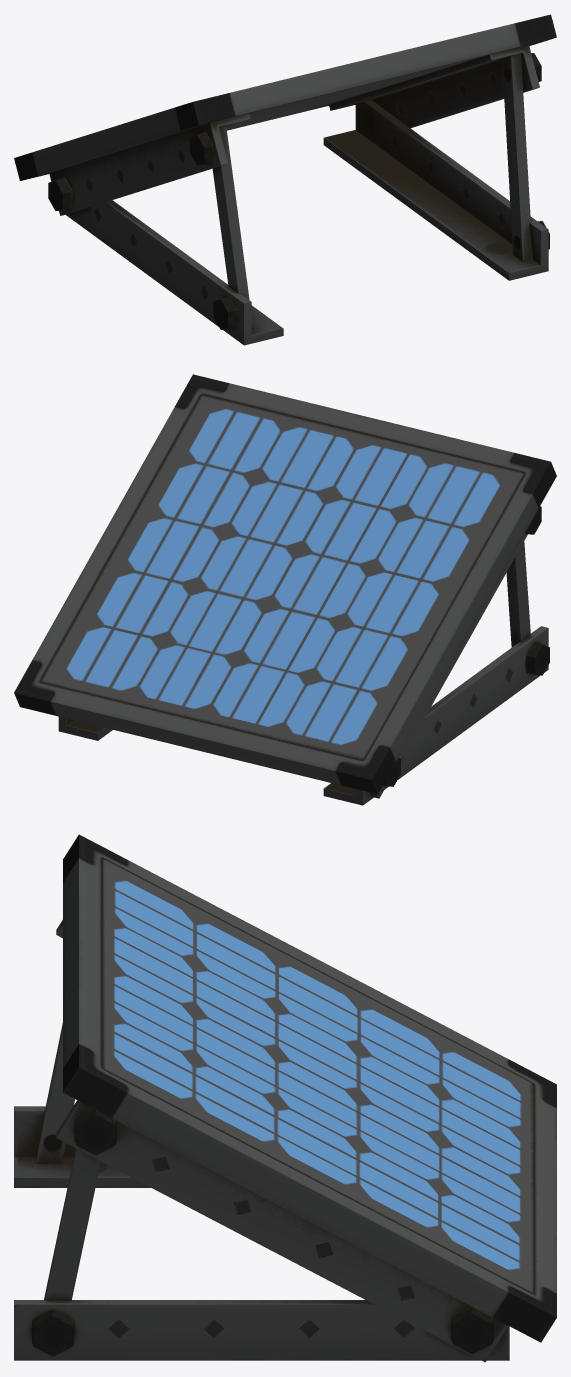
The model's file is P_RoofEquipment_009_S1_M03.obj.
3 views of the same model, one above another, from view 1: azimuth 30°, elevation 25°; view 2: azimuth 150°, elevation 25°; view 3: azimuth 270°, elevation 25° (orthographic). The views are drawn at different scales.
Bounding box in the file's own units: 1 × 0.6204 × 0.9837.
Materials: 1 (1 with a texture image).
